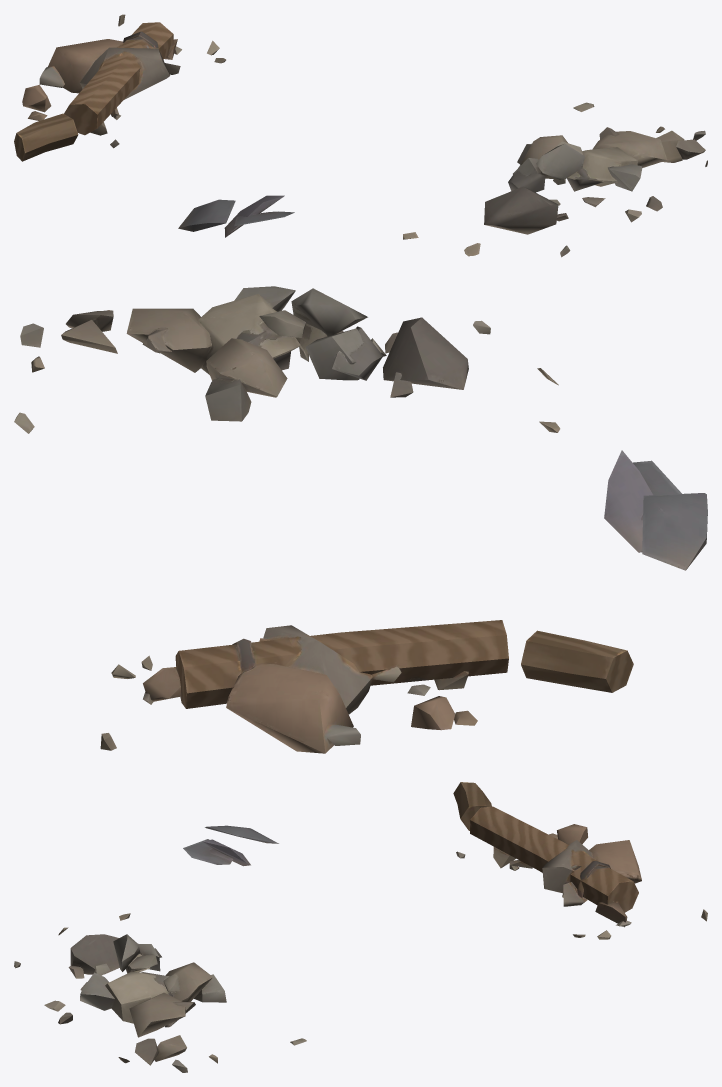
Rendered from rough-cave-2.hq.glb.
3 renders of one model, top to bottom at view 1: azimuth 30°, elevation 25°; view 2: azimuth 150°, elevation 25°; view 3: azimuth 270°, elevation 25°, orthographic. The views are drawn at different scales.
Visible parts, largest first — view 1: rough-cave-2; view 2: rough-cave-2; view 3: rough-cave-2.
Part boxes in pixels (x1=…): rough-cave-2: x1=14, y1=14, x2=707, y2=257; rough-cave-2: x1=14, y1=286, x2=707, y2=753; rough-cave-2: x1=14, y1=782, x2=707, y2=1072.
Bounding box in the file's own units: 1.79 × 0.22 × 1.99.
Materials: 1 (1 with a texture image).
